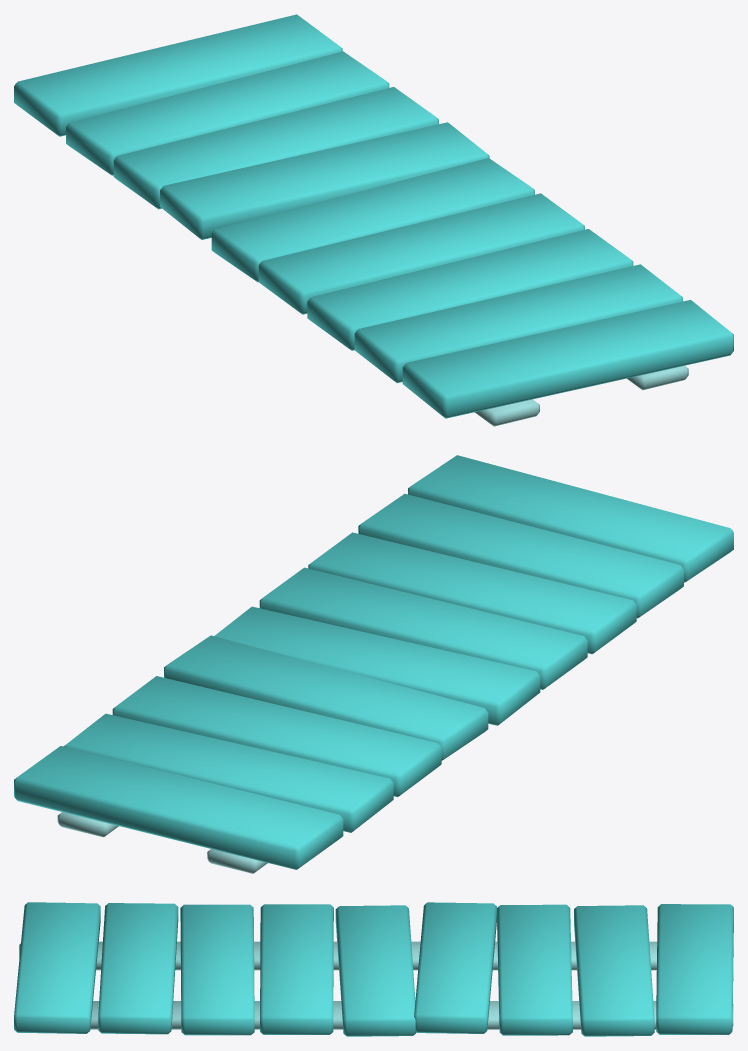
The model's file is bridge.fbx.
The picture shows the model from 3 angles, top to bottom: view 1: azimuth 30°, elevation 25°; view 2: azimuth 150°, elevation 25°; view 3: azimuth 270°, elevation 25°; orthographic projection. The views are drawn at different scales.
Parts seen in each view (by area): view 1: Cube.001; view 2: Cube.001; view 3: Cube.001.
Boxes of the visible parts, x1=… form: Cube.001: x1=14, y1=14, x2=733, y2=426; Cube.001: x1=14, y1=455, x2=733, y2=873; Cube.001: x1=14, y1=902, x2=733, y2=1036.
Size of the model in its own units: 172 by 23.1 by 454.
